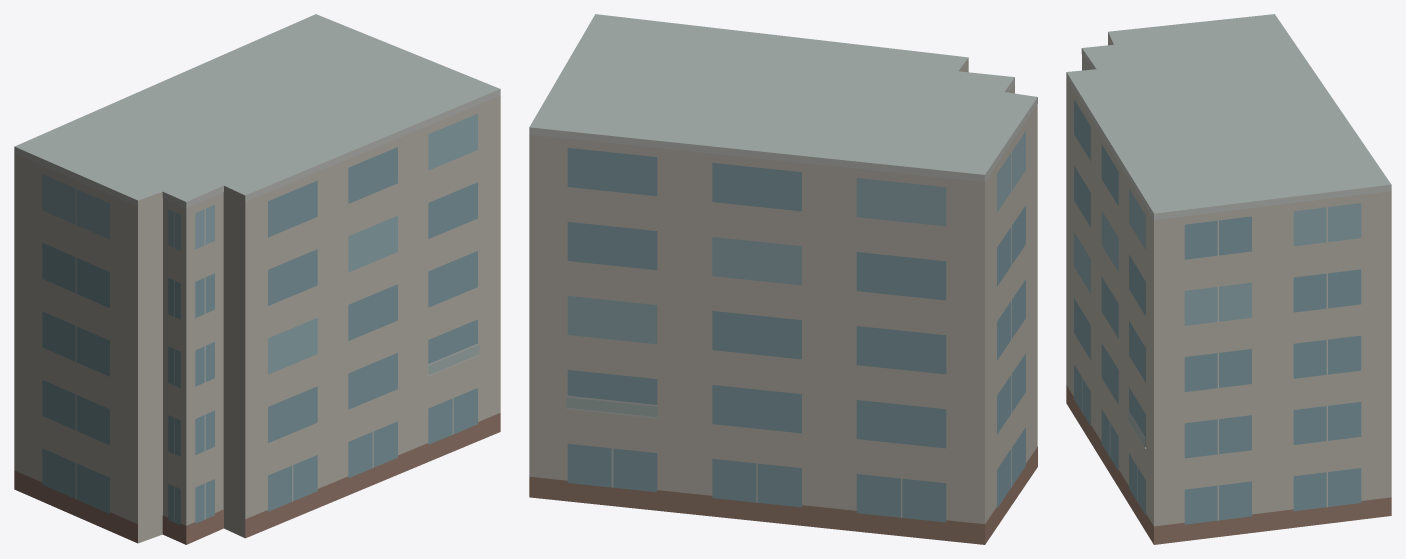
The model's file is survey-upis-32654706.glb.
The picture shows the model from 3 angles, left to right: view 1: azimuth 30°, elevation 25°; view 2: azimuth 150°, elevation 25°; view 3: azimuth 270°, elevation 25°; orthographic projection. The views are drawn at different scales.
Parts seen in each view (by area): view 1: survey-upis-32654706.tmp; view 2: survey-upis-32654706.tmp; view 3: survey-upis-32654706.tmp.
Part boxes in pixels (box(x1,y1,x2,y2)): survey-upis-32654706.tmp: box(14, 14, 500, 544); survey-upis-32654706.tmp: box(529, 14, 1037, 544); survey-upis-32654706.tmp: box(1066, 14, 1391, 544).
Bounding box in the file's own units: 16.43 × 12.7 × 11.31.
